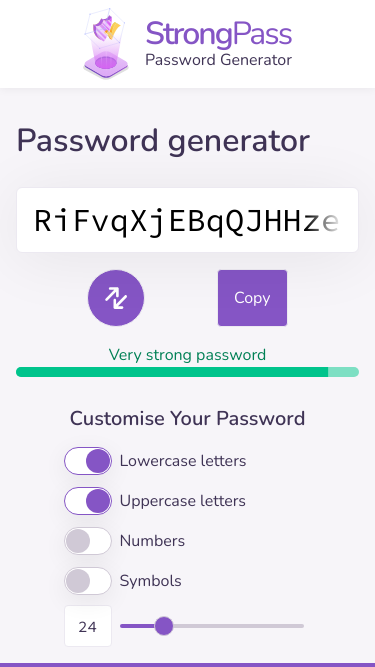
Test case: Password customisation › displays only symbols if the only option ticked is symbols
Step 1. Click the checkbox labelled "Lowercase letters" → (184, 461), box top-left (120, 450), bottom-right (247, 472)
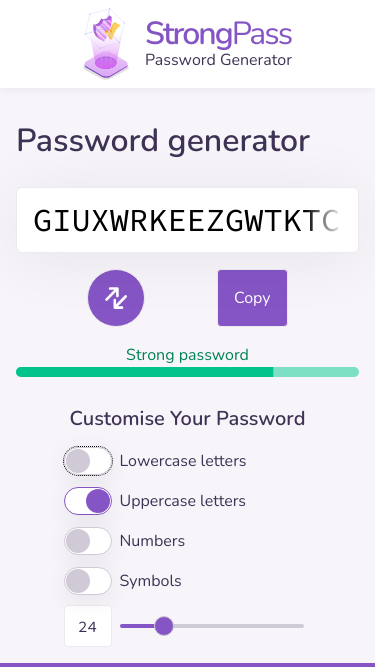
Step 2. Click the checkbox labelled "Uppercase letters" → (184, 501), box top-left (120, 490), bottom-right (247, 512)
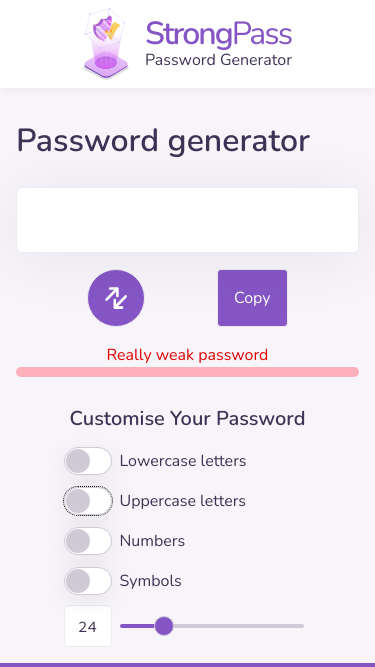
Step 3. Click the checkbox labelled "Symbols" → (151, 581), box top-left (120, 570), bottom-right (182, 592)
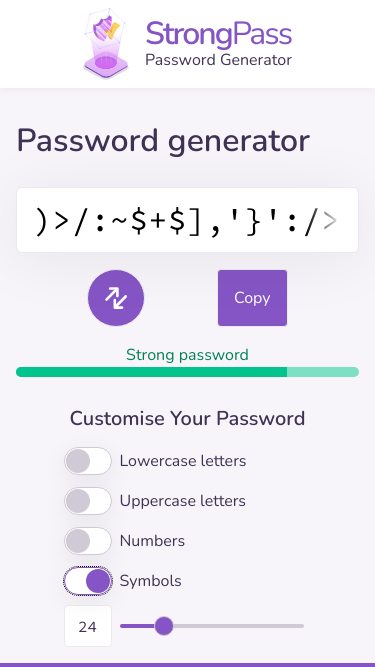
Result: the field named "generatedPassword" holds "[^a-zA-Z0-9]" at top-left (16, 187), bottom-right (359, 253)
